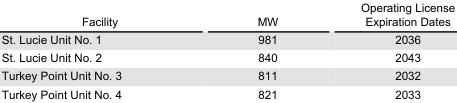table: (0, 0, 454, 100)
table column: (0, 0, 188, 100), (318, 0, 454, 100), (188, 0, 318, 100)
table column header: (0, 0, 454, 30)
table row: (0, 0, 454, 30), (0, 30, 454, 48), (0, 48, 454, 66), (0, 66, 454, 84), (0, 84, 454, 100)
